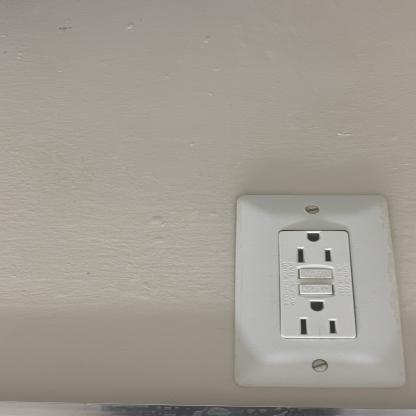OUTLET: (234, 192, 399, 390)
